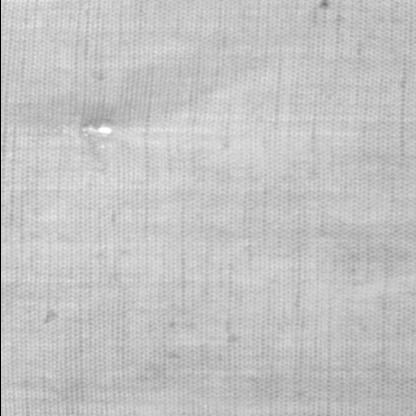hole: (76, 121, 114, 138)
